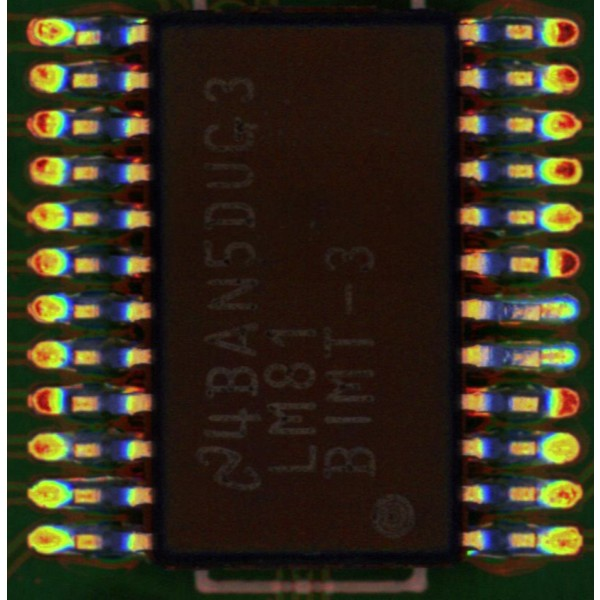Bad_podu: (529, 304, 555, 321), (532, 352, 554, 364)
